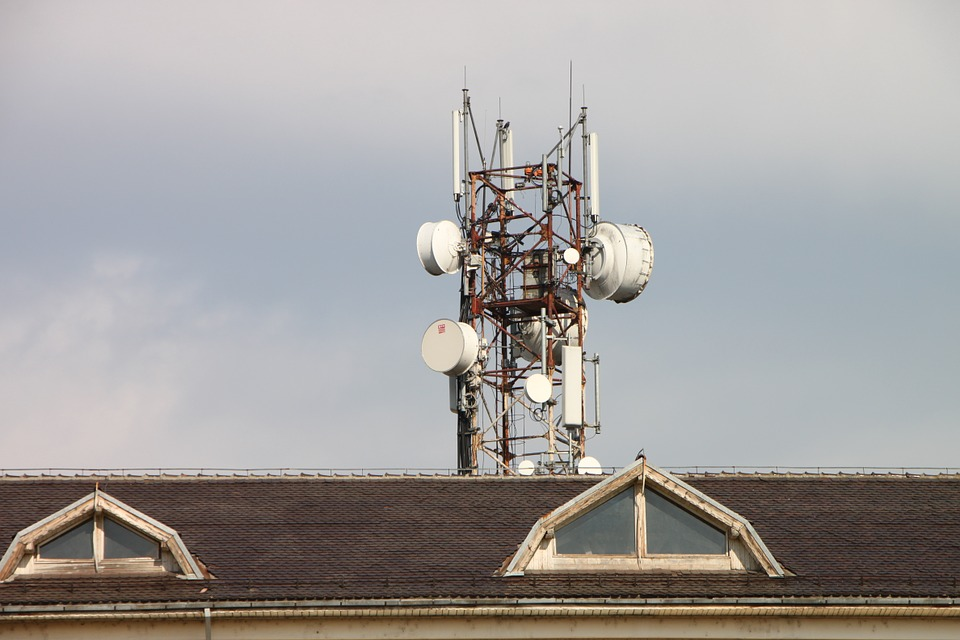a: (497, 119, 518, 190), (586, 131, 602, 222), (452, 109, 463, 200)
b: (422, 319, 477, 376), (417, 220, 464, 275), (526, 373, 551, 404), (577, 456, 601, 475), (563, 247, 579, 265)
